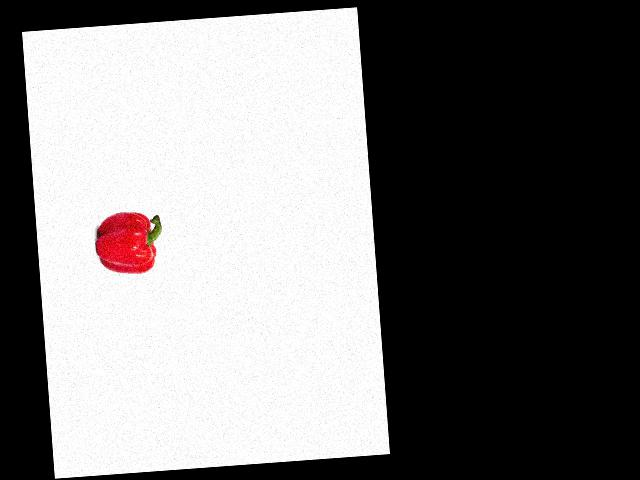bell_pepper: (93, 207, 166, 280)
